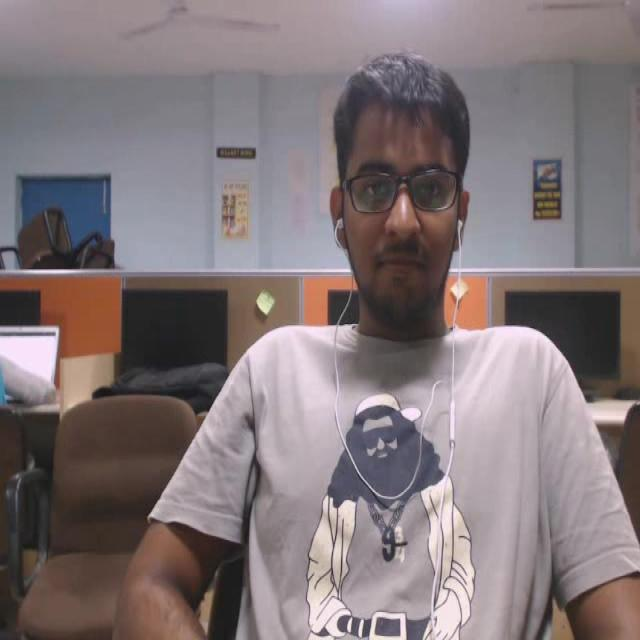Engaged: (293, 24, 512, 357)
